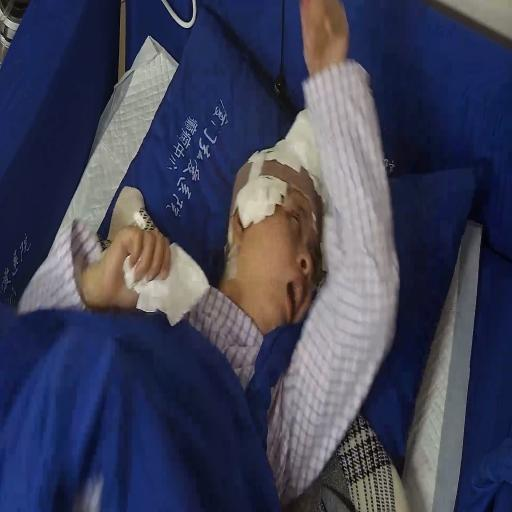Seizure: (235, 151, 322, 325)
